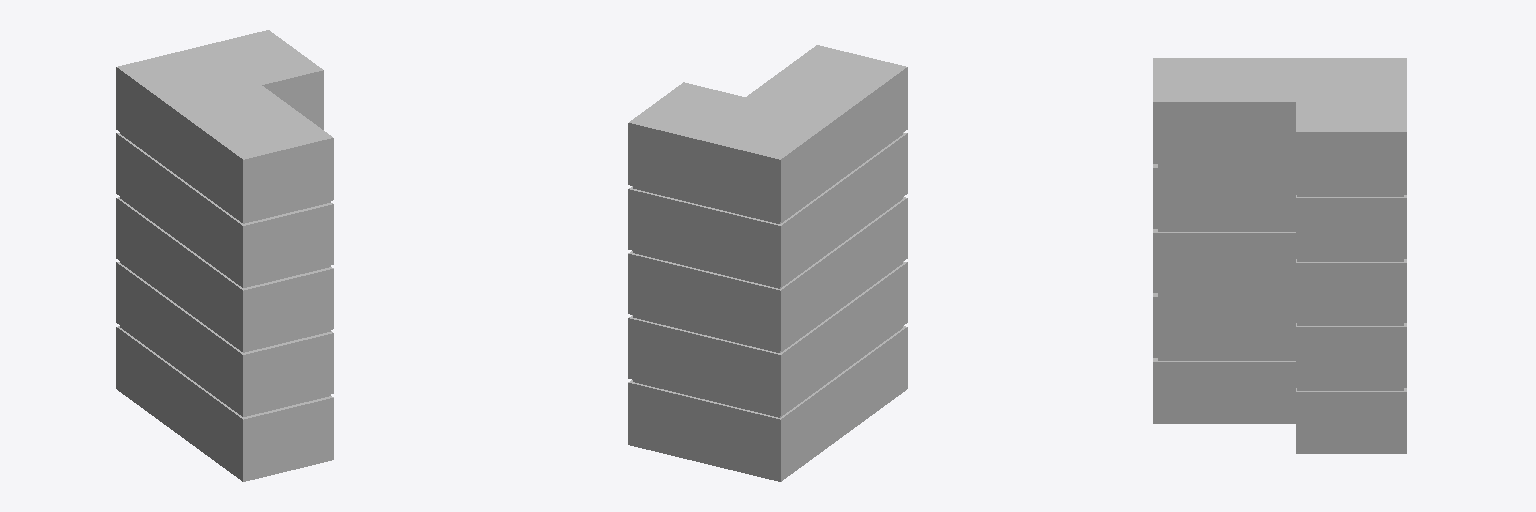
The model's file is building_2.obj.
The picture shows the model from 3 angles: view 1: azimuth 30°, elevation 25°; view 2: azimuth 150°, elevation 25°; view 3: azimuth 270°, elevation 25°; orthographic projection.
Visible parts, largest first — view 1: 立方体; view 2: 立方体; view 3: 立方体.
Boxes of the visible parts, box(x1,y1,x2,y2) form: 立方体: box(116, 30, 333, 481); 立方体: box(628, 45, 907, 481); 立方体: box(1153, 58, 1406, 453).
Bounding box in the file's own units: 9.79 × 19.82 × 14.14.